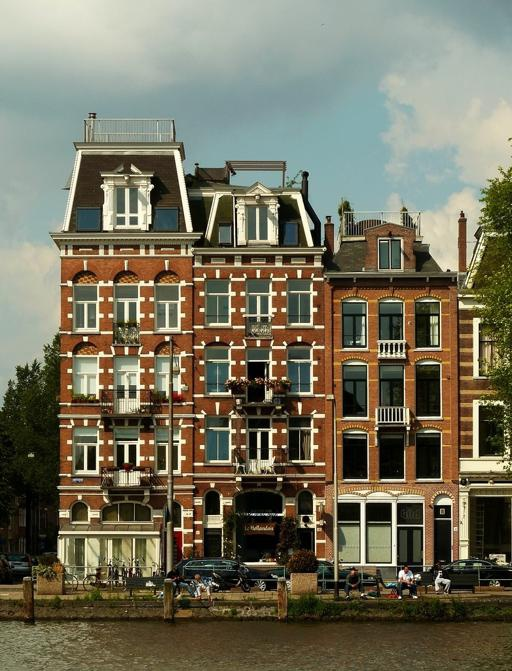non-vehicle: (82, 563, 127, 593), (32, 564, 78, 593)
